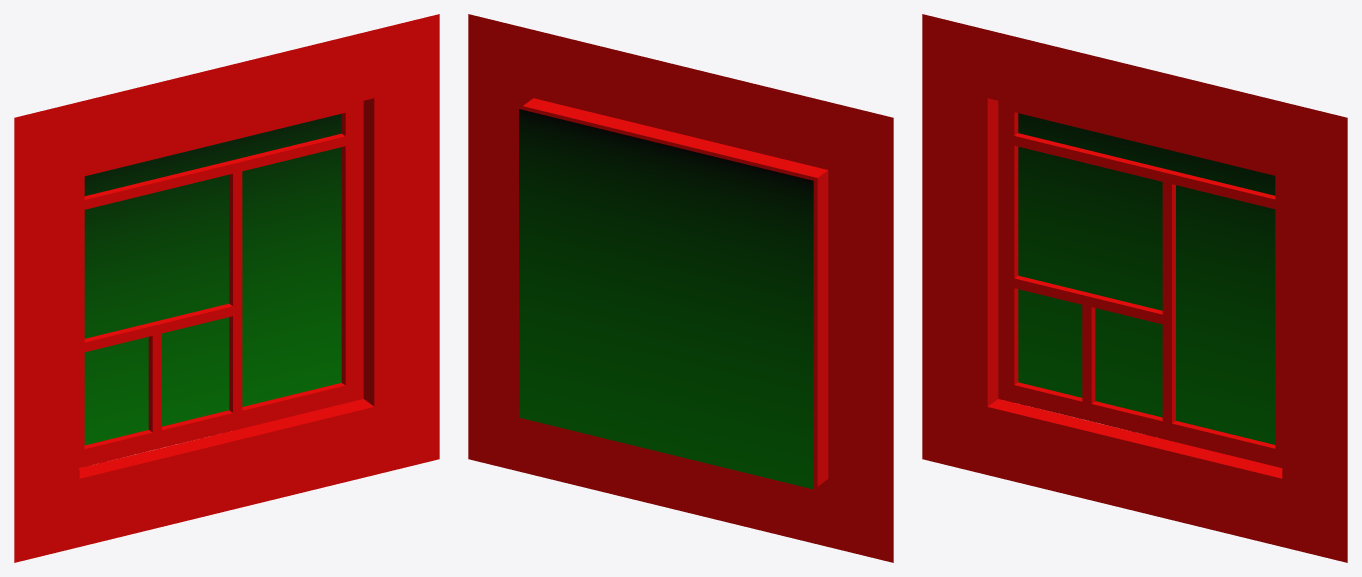
The model's file is Wall_Window.FBX.
3 renders of one model, left to right at view 1: azimuth 30°, elevation 25°; view 2: azimuth 150°, elevation 25°; view 3: azimuth 330°, elevation 25°, orthographic.
Parts seen in each view (by area): view 1: Wall_Window; view 2: Wall_Window; view 3: Wall_Window.
Boxes of the visible parts, x1,y1,x2,y2 form: Wall_Window: (14, 14, 439, 562); Wall_Window: (468, 14, 893, 562); Wall_Window: (922, 14, 1347, 562).
Size of the model in its own units: 2.56 by 2.56 by 0.1529.
